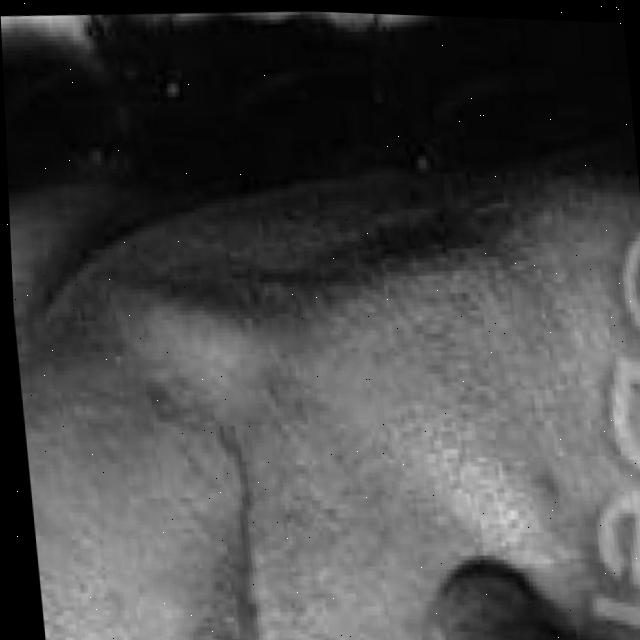Rosacea: (462, 384, 587, 547)
